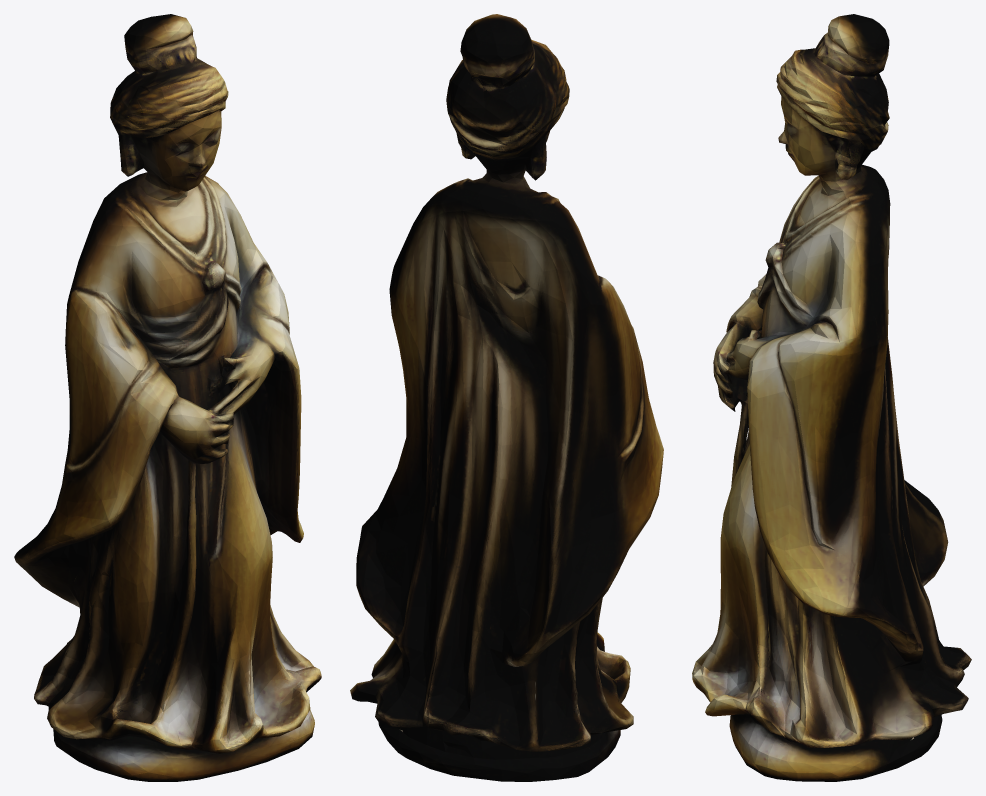
File: ceramic-statue-rustic.jpeg.glb
3 views of the same model, side by side, from view 1: azimuth 30°, elevation 25°; view 2: azimuth 150°, elevation 25°; view 3: azimuth 270°, elevation 25° (orthographic). The views are drawn at different scales.
Parts seen in each view (by area): view 1: world; view 2: world; view 3: world.
Part boxes in pixels (x1=…): world: x1=14, y1=14, x2=321, y2=781; world: x1=350, y1=14, x2=663, y2=781; world: x1=692, y1=14, x2=971, y2=781.
Size of the model in its own units: 0.3813 by 0.9998 by 0.3588.
Materials: 1 (1 with a texture image).
